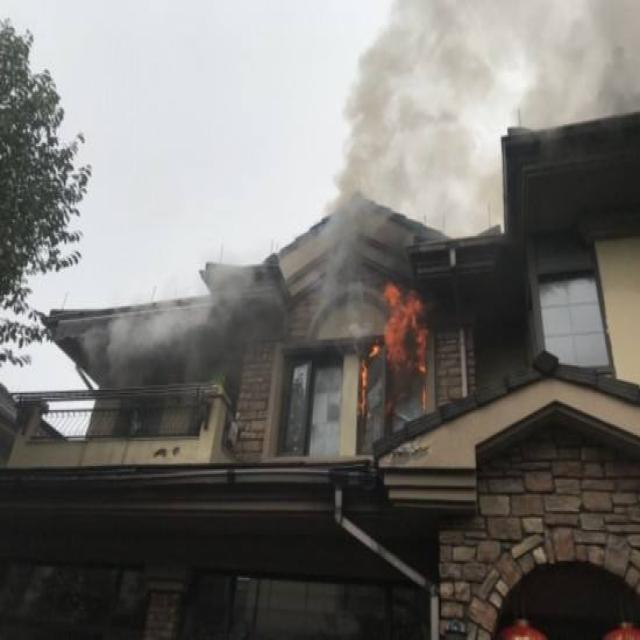Fire: (356, 279, 430, 418)
Smoke: (312, 2, 640, 440), (79, 260, 284, 380)
